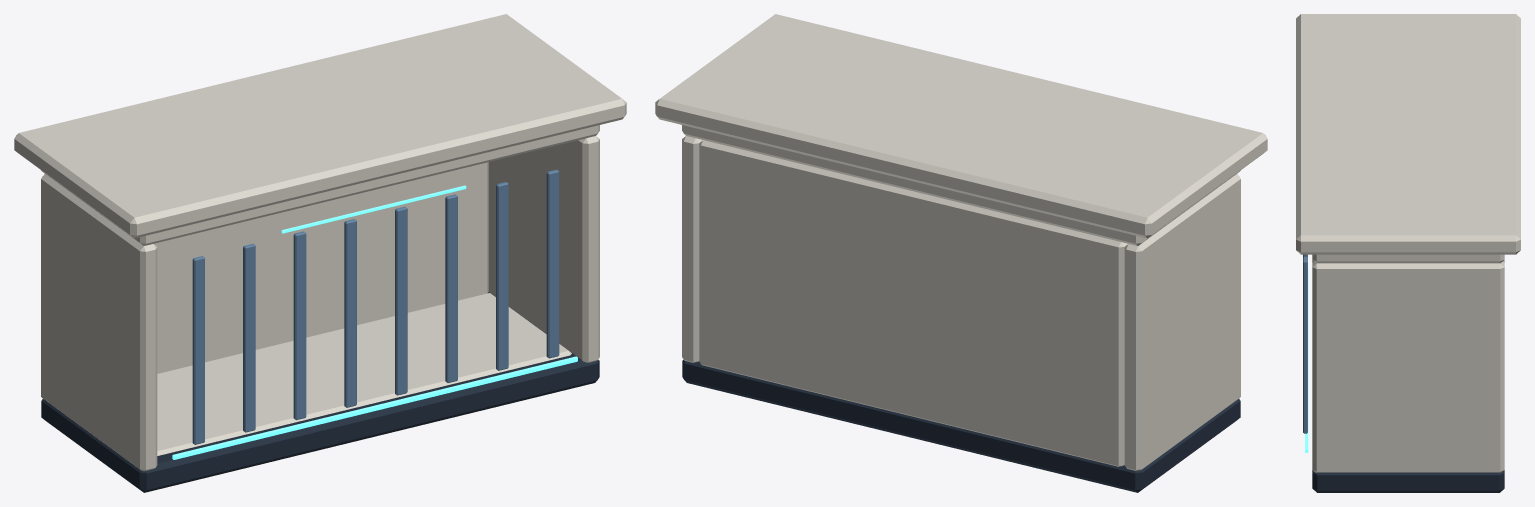
Rendered from restaurant_05.glb.
The picture shows the model from 3 angles, left to right: view 1: azimuth 30°, elevation 25°; view 2: azimuth 150°, elevation 25°; view 3: azimuth 270°, elevation 25°; orthographic projection. The views are drawn at different scales.
Visible parts, largest first — view 1: BarCounter, Side (×2), Back, Bottom, CounterSlat (×8), Base, Top, FrontKicklight, StatusLight; view 2: Back, BarCounter, Side (×2), Base, Top; view 3: BarCounter, Side, Base, Top, CounterSlat.
Part boxes in pixels (x1=…): BarCounter: x1=14, y1=14, x2=626, y2=238; Side (×2): x1=41, y1=136, x2=599, y2=471; Back: x1=154, y1=162, x2=488, y2=373; Bottom: x1=157, y1=293, x2=571, y2=455; CounterSlat (×8): x1=192, y1=169, x2=559, y2=444; Base: x1=41, y1=292, x2=599, y2=492; Top: x1=41, y1=125, x2=599, y2=245; FrontKicklight: x1=172, y1=356, x2=577, y2=459; StatusLight: x1=281, y1=185, x2=466, y2=233; Back: x1=699, y1=140, x2=1127, y2=466; BarCounter: x1=655, y1=14, x2=1267, y2=238; Side (×2): x1=682, y1=136, x2=1240, y2=471; Base: x1=682, y1=360, x2=1240, y2=492; Top: x1=682, y1=125, x2=1240, y2=245; BarCounter: x1=1296, y1=14, x2=1520, y2=254; Side: x1=1312, y1=261, x2=1504, y2=472; Base: x1=1312, y1=470, x2=1504, y2=492; Top: x1=1312, y1=254, x2=1504, y2=263; CounterSlat: x1=1303, y1=256, x2=1307, y2=433.
Bounding box in the file's own units: 2 × 1.1 × 0.8424.
